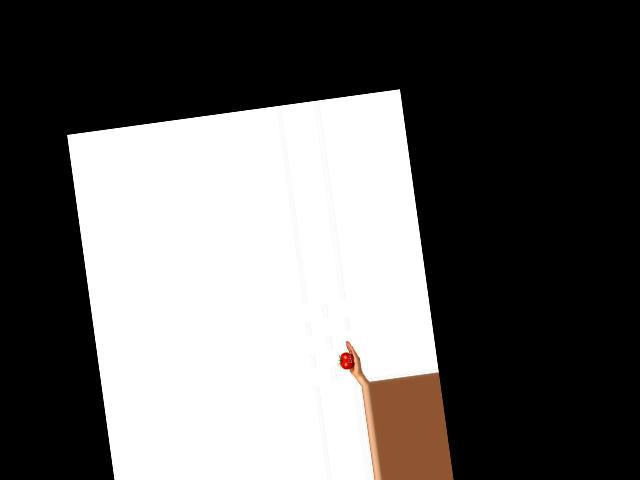tomato: (339, 351, 355, 369)
